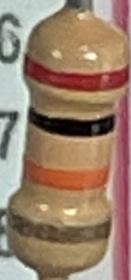Black: (25, 103, 115, 143)
Orange: (20, 154, 110, 192)
Red: (22, 55, 128, 96)
Side-Silver: (7, 208, 113, 244)
